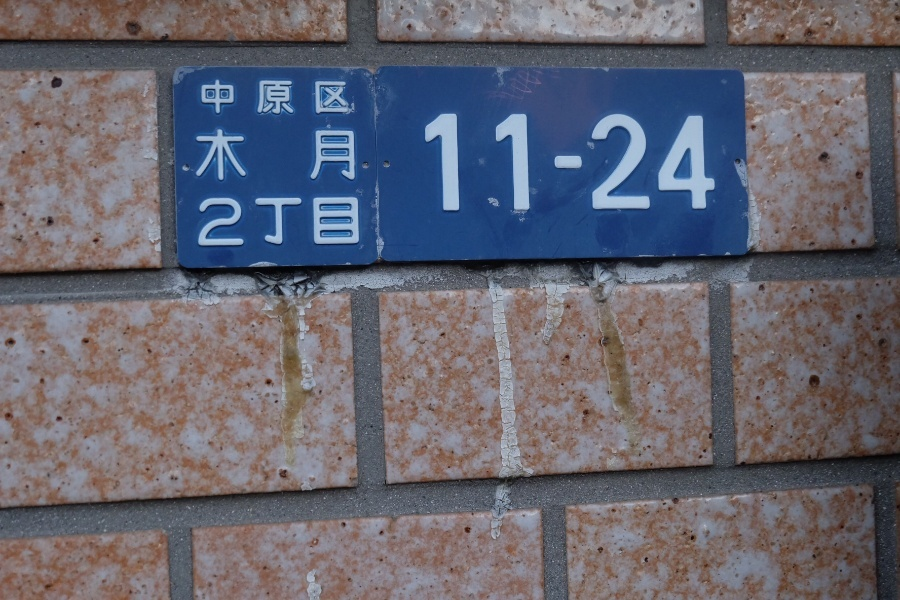text: (433, 114, 448, 215), (449, 114, 464, 215), (465, 114, 480, 215), (481, 114, 496, 215), (497, 114, 512, 215), (513, 114, 528, 215), (529, 114, 544, 215), (545, 114, 560, 215), (561, 114, 576, 215), (577, 114, 592, 215), (593, 114, 608, 215), (609, 114, 624, 215), (625, 114, 640, 215), (641, 114, 656, 215), (657, 114, 672, 215), (673, 114, 688, 215), (689, 114, 704, 215), (705, 114, 720, 215), (420, 114, 432, 215), (209, 128, 224, 185), (225, 128, 240, 185), (241, 128, 256, 185), (257, 128, 272, 185), (273, 128, 288, 185), (289, 128, 304, 185), (305, 128, 320, 185), (321, 128, 336, 185), (337, 128, 352, 185), (209, 197, 224, 249), (225, 197, 240, 249), (241, 197, 256, 249), (257, 197, 272, 249), (273, 197, 288, 249), (289, 197, 304, 249), (305, 197, 320, 249), (321, 197, 336, 249), (337, 197, 352, 249), (196, 128, 208, 185), (209, 80, 224, 116), (225, 80, 240, 116), (241, 80, 256, 116), (257, 80, 272, 116), (273, 80, 288, 116), (289, 80, 304, 116), (305, 80, 320, 116), (321, 80, 336, 116), (337, 80, 350, 116), (353, 197, 362, 249), (200, 197, 208, 249), (199, 80, 208, 116), (353, 128, 357, 185)
